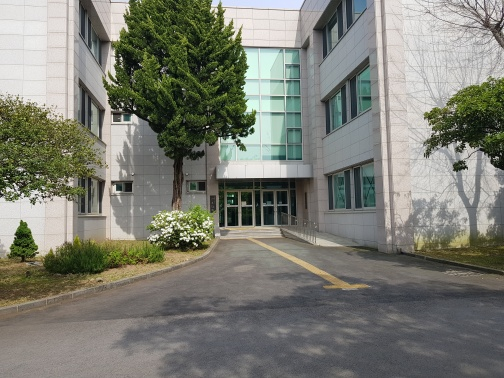College of Nursing: (7, 4, 494, 249)
